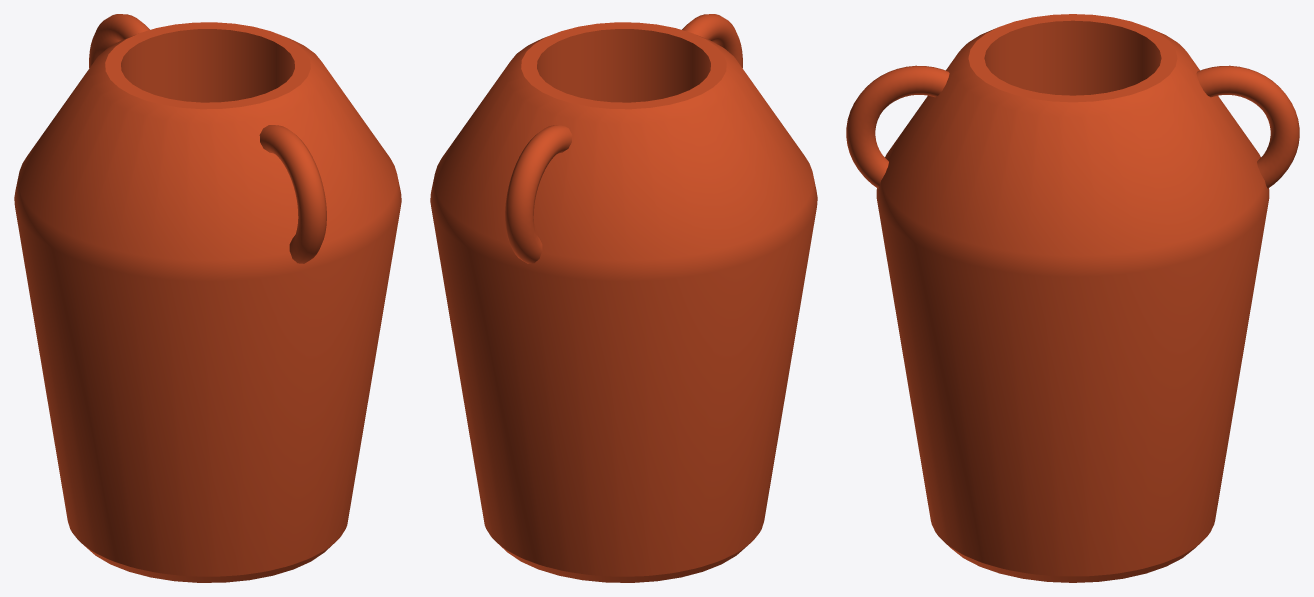
The model's file is vase.obj.
3 renders of one model, left to right at view 1: azimuth 30°, elevation 25°; view 2: azimuth 150°, elevation 25°; view 3: azimuth 270°, elevation 25°, orthographic.
Parts seen in each view (by area): view 1: Vase_Cylinder.001, Handle_Torus, Handle2_Torus.001; view 2: Vase_Cylinder.001, Handle2_Torus.001, Handle_Torus; view 3: Vase_Cylinder.001, Handle_Torus, Handle2_Torus.001.
Boxes of the visible parts, x1,y1,x2,y2 form: Vase_Cylinder.001: (14,22,401,582); Handle_Torus: (259,125,326,263); Handle2_Torus.001: (89,14,149,67); Vase_Cylinder.001: (430,22,817,582); Handle2_Torus.001: (505,125,572,263); Handle_Torus: (682,14,742,67); Vase_Cylinder.001: (876,14,1269,582); Handle_Torus: (846,65,949,188); Handle2_Torus.001: (1196,65,1299,188).
Size of the model in its own units: 1.52 by 2 by 1.76.
